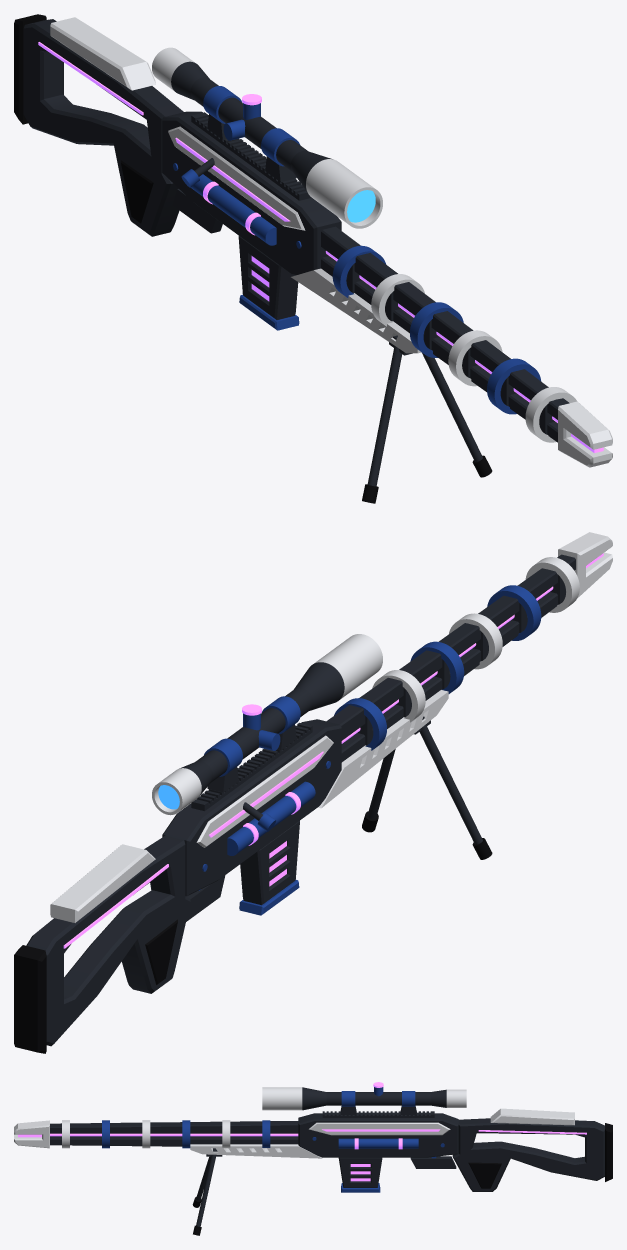
Rendered from Sniper_LRX_Longshot.glb.
3 renders of one model, top to bottom at view 1: azimuth 30°, elevation 25°; view 2: azimuth 150°, elevation 25°; view 3: azimuth 270°, elevation 25°, orthographic. The views are drawn at different scales.
Parts seen in each view (by area): view 1: stock, receiver, rail_upper, cheek_rest, magazine, scope_bell, receiver_armor, muzzle_block, forend, rail_lower, scope_tube, cell_R (+16 smaller); view 2: stock, receiver, rail_upper, cheek_rest, butt_pad, magazine, forend, receiver_armor, rail_lower, scope_bell, scope_tube, muzzle_block (+13 smaller); view 3: stock, receiver, rail_upper, rail_lower, receiver_armor, forend, cheek_rest, magazine, scope_tube, scope_bell, muzzle_block, cell_L (+19 smaller).
Part boxes in pixels (x1,y1,x2,y2): stock: (23,19,183,236); receiver: (162,111,341,275); rail_upper: (321,226,569,419); cheek_rest: (50,17,155,90); magazine: (238,236,298,319); scope_bell: (306,159,382,228); receiver_armor: (168,126,305,230); muzzle_block: (558,401,612,467); forend: (291,268,421,353); rail_lower: (321,256,557,442); scope_tube: (190,77,307,171); cell_R: (191,174,276,245); stock: (26,835,190,1046); receiver: (162,719,341,896); rail_upper: (326,554,575,740); cheek_rest: (50,844,155,922); butt_pad: (14,945,46,1053); magazine: (240,821,299,905); forend: (318,690,448,808); receiver_armor: (196,735,333,847); rail_lower: (341,587,565,762); scope_bell: (314,634,382,699); scope_tube: (195,687,313,782); muzzle_block: (558,532,612,597); stock: (452,1118,604,1191); receiver: (298,1113,458,1157); rail_upper: (50,1121,298,1133); rail_lower: (50,1136,298,1146); receiver_armor: (309,1122,450,1135); forend: (190,1144,322,1158); cheek_rest: (490,1108,574,1125); magazine: (338,1157,382,1187); scope_tube: (326,1092,430,1105); scope_bell: (262,1087,302,1110); muzzle_block: (14,1120,49,1148); cell_L: (338,1138,418,1148).
Bounding box in the file's own units: 0.1928 × 0.3778 × 1.5.
